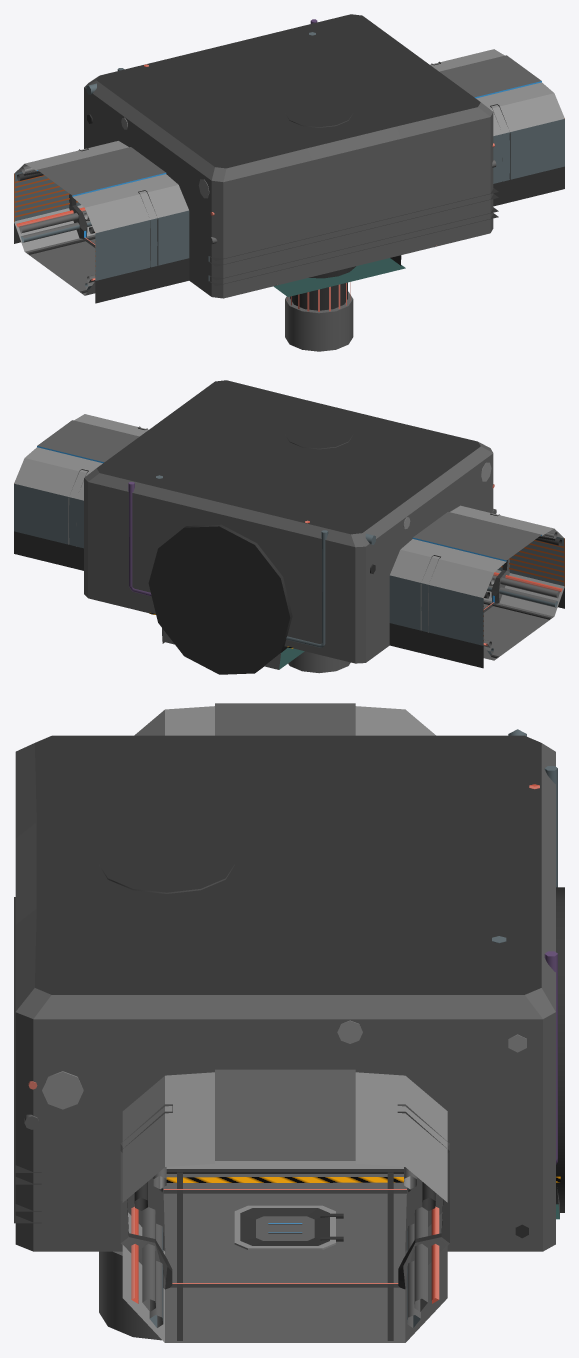
Rendered from Reactor_Room.fbx.
3 renders of one model, top to bottom at view 1: azimuth 30°, elevation 25°; view 2: azimuth 150°, elevation 25°; view 3: azimuth 270°, elevation 25°, orthographic. The views are drawn at different scales.
Parts seen in each view (by area): view 1: Reactor_Room_Ceiling, Reactor_Room_South, Reactor_Room, Reactor_Room_West, Reactor_Cylinder, Reactor_Room_North; view 2: Reactor_Room_Ceiling, Reactor_Room_North, Reactor_Room, Reactor_Room_West, Reactor_Room_South, Reactor_Cylinder; view 3: Reactor_Room_Ceiling, Reactor_Room_East, Reactor_Room, Reactor_Room_South, Reactor_Room_North, Reactor_Cylinder.
Boxes of the visible parts, x1,y1,x2,y2 form: Reactor_Room_Ceiling: [25, 14, 553, 207]; Reactor_Room_South: [84, 93, 564, 298]; Reactor_Room: [14, 166, 564, 303]; Reactor_Room_West: [84, 87, 211, 296]; Reactor_Cylinder: [285, 282, 353, 351]; Reactor_Room_North: [14, 19, 440, 238]; Reactor_Room_Ceiling: [25, 380, 553, 572]; Reactor_Room_North: [14, 458, 494, 663]; Reactor_Room: [14, 524, 564, 674]; Reactor_Room_West: [366, 453, 493, 662]; Reactor_Room_South: [138, 426, 564, 603]; Reactor_Cylinder: [288, 651, 350, 673]; Reactor_Room_Ceiling: [15, 703, 555, 1166]; Reactor_Room_East: [33, 1019, 542, 1251]; Reactor_Room: [122, 887, 564, 1342]; Reactor_Room_South: [14, 710, 172, 1289]; Reactor_Room_North: [397, 709, 557, 1289]; Reactor_Cylinder: [99, 1251, 161, 1340].
Bounding box in the file's own units: 2000 × 913 × 1018.
